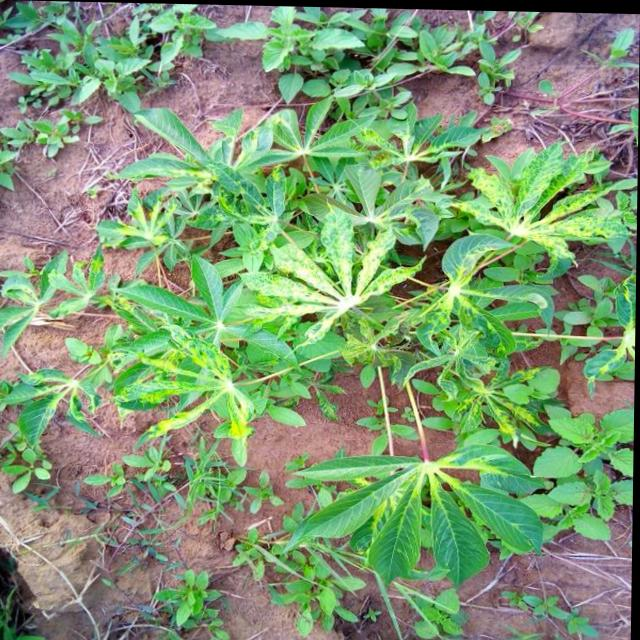Mosaico: (115, 323, 275, 468), (345, 434, 515, 563), (442, 149, 616, 260), (249, 208, 397, 333), (430, 349, 551, 460), (347, 121, 485, 180)
